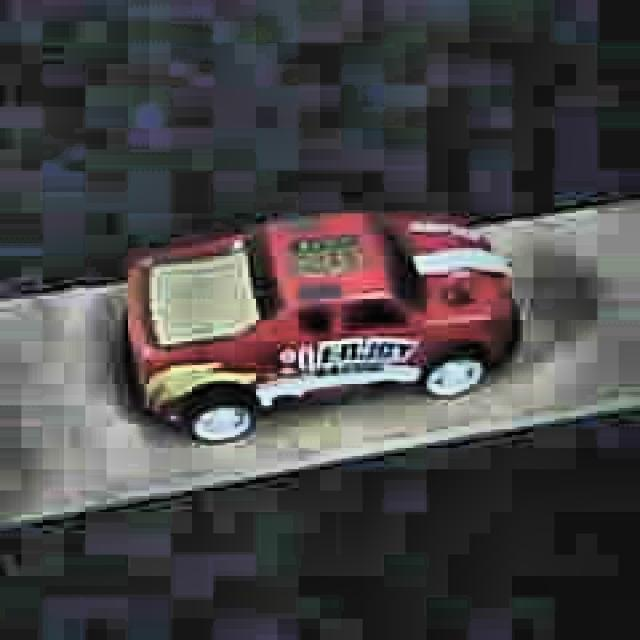car: (120, 208, 522, 447)
